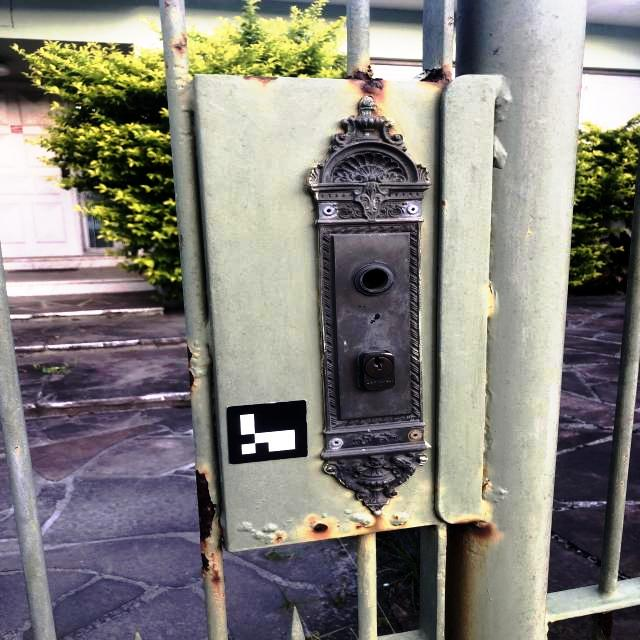Corrosion: (195, 468, 223, 589), (447, 516, 498, 555), (340, 64, 388, 103), (418, 64, 452, 89), (355, 511, 388, 531), (187, 344, 199, 395), (257, 524, 287, 543), (303, 516, 330, 537), (596, 610, 613, 640), (169, 32, 188, 58), (242, 75, 280, 85), (372, 105, 386, 118), (391, 520, 409, 528), (339, 119, 346, 134), (482, 478, 490, 491), (356, 98, 361, 117), (429, 524, 438, 532), (164, 0, 170, 9), (440, 200, 446, 207), (392, 515, 399, 519), (483, 467, 487, 474), (165, 62, 168, 70)
